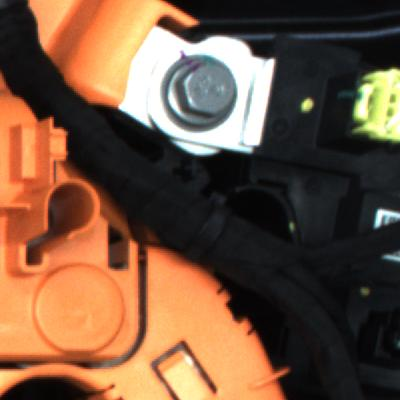nut_b: (154, 50, 240, 132)
